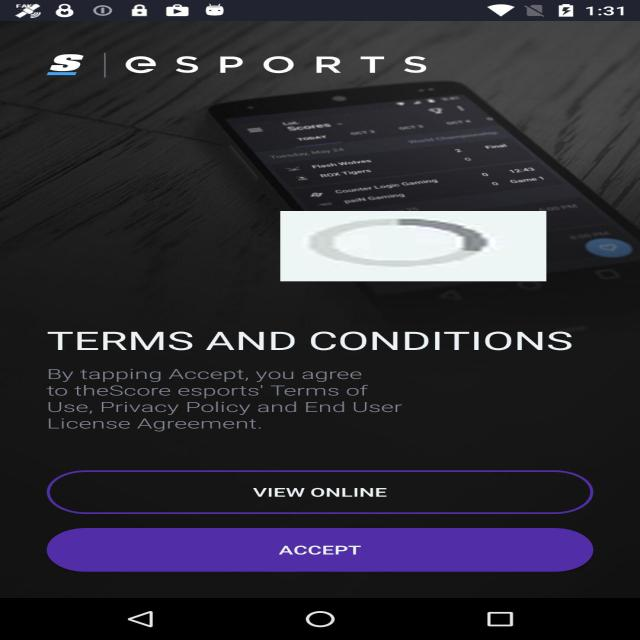misdirection: (280, 211, 546, 281)
